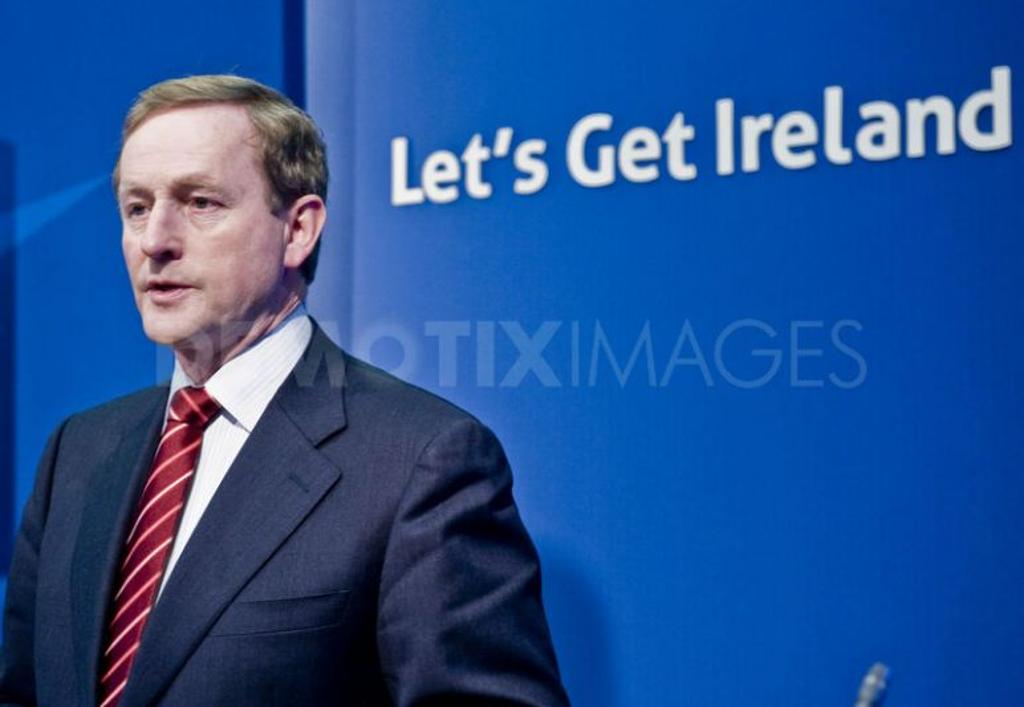face: (116, 124, 266, 342)
